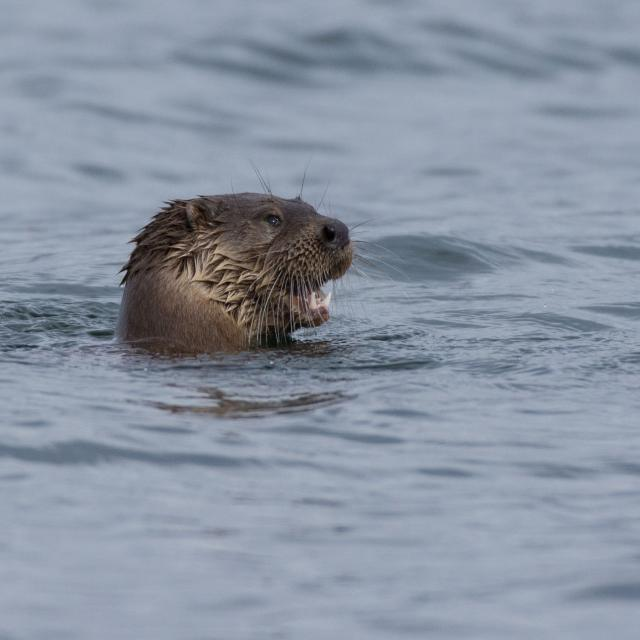otter: (119, 196, 353, 352)
